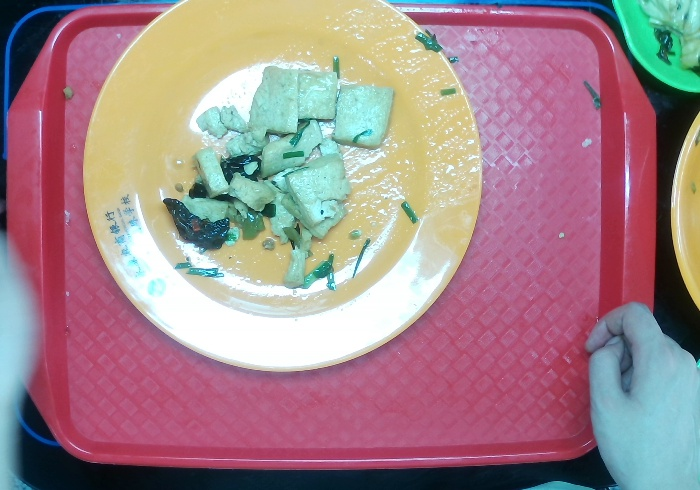YKMZ-Ju_Se_Mian_Pan: (77, 1, 488, 376)
